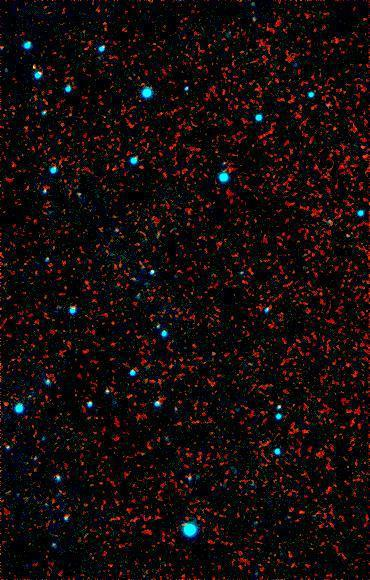star: (20, 55, 50, 85)
